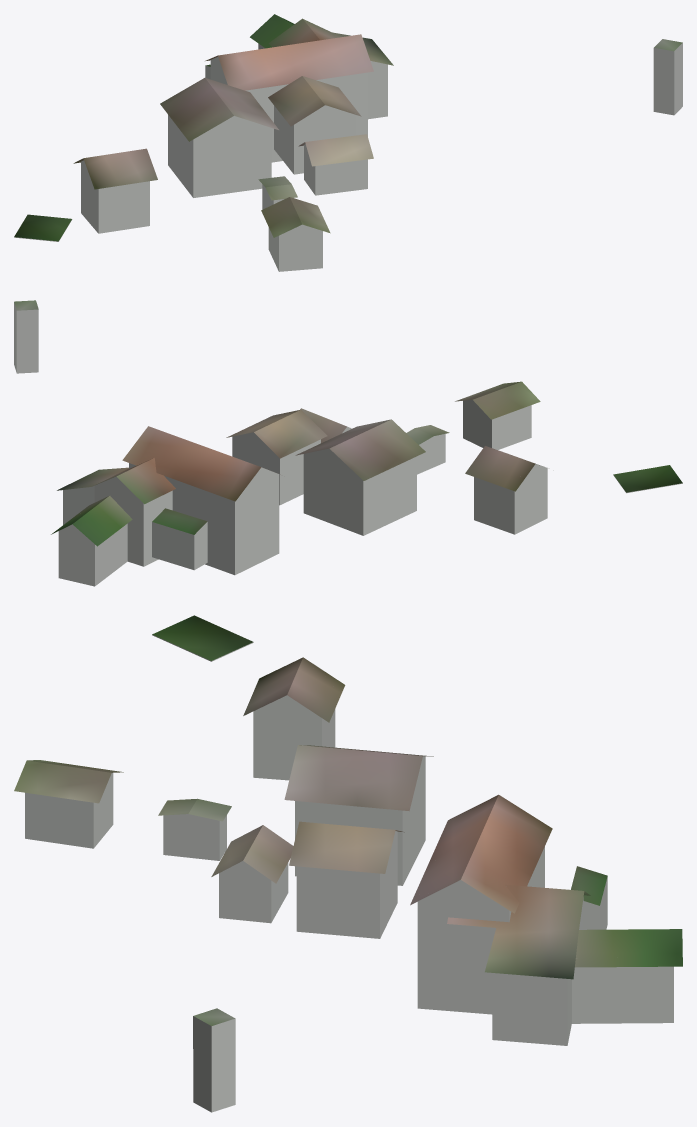
The model's file is LSGG_2_3.glb.
3 views of the same model, one above another, from view 1: azimuth 30°, elevation 25°; view 2: azimuth 150°, elevation 25°; view 3: azimuth 270°, elevation 25° (orthographic). The views are drawn at different scales.
Visible parts, largest first — view 1: building_ecddde27a3fbc828, building_8317ef163b0026be, building_ce1e45193346f1df, building_917485cf277f4f95; view 2: building_ecddde27a3fbc828, building_8317ef163b0026be, building_ce1e45193346f1df, building_917485cf277f4f95; view 3: building_ecddde27a3fbc828, building_8317ef163b0026be, building_ce1e45193346f1df, building_917485cf277f4f95.
Part boxes in pixels (box(x1,y1,x2,y2)): building_ecddde27a3fbc828: box(14, 57, 367, 271); building_8317ef163b0026be: box(14, 34, 373, 241); building_ce1e45193346f1df: box(258, 43, 682, 119); building_917485cf277f4f95: box(250, 14, 682, 65); building_ecddde27a3fbc828: box(129, 399, 682, 575); building_8317ef163b0026be: box(122, 381, 682, 534); building_ce1e45193346f1df: box(14, 302, 172, 586); building_917485cf277f4f95: box(14, 300, 175, 546); building_ecddde27a3fbc828: box(25, 634, 607, 1014); building_8317ef163b0026be: box(14, 615, 607, 913); building_ce1e45193346f1df: box(193, 897, 673, 1112); building_917485cf277f4f95: box(194, 884, 682, 1025).
Bounding box in the file's own units: 120 × 18.41 × 76.23.
Materials: 2 (1 with a texture image).
